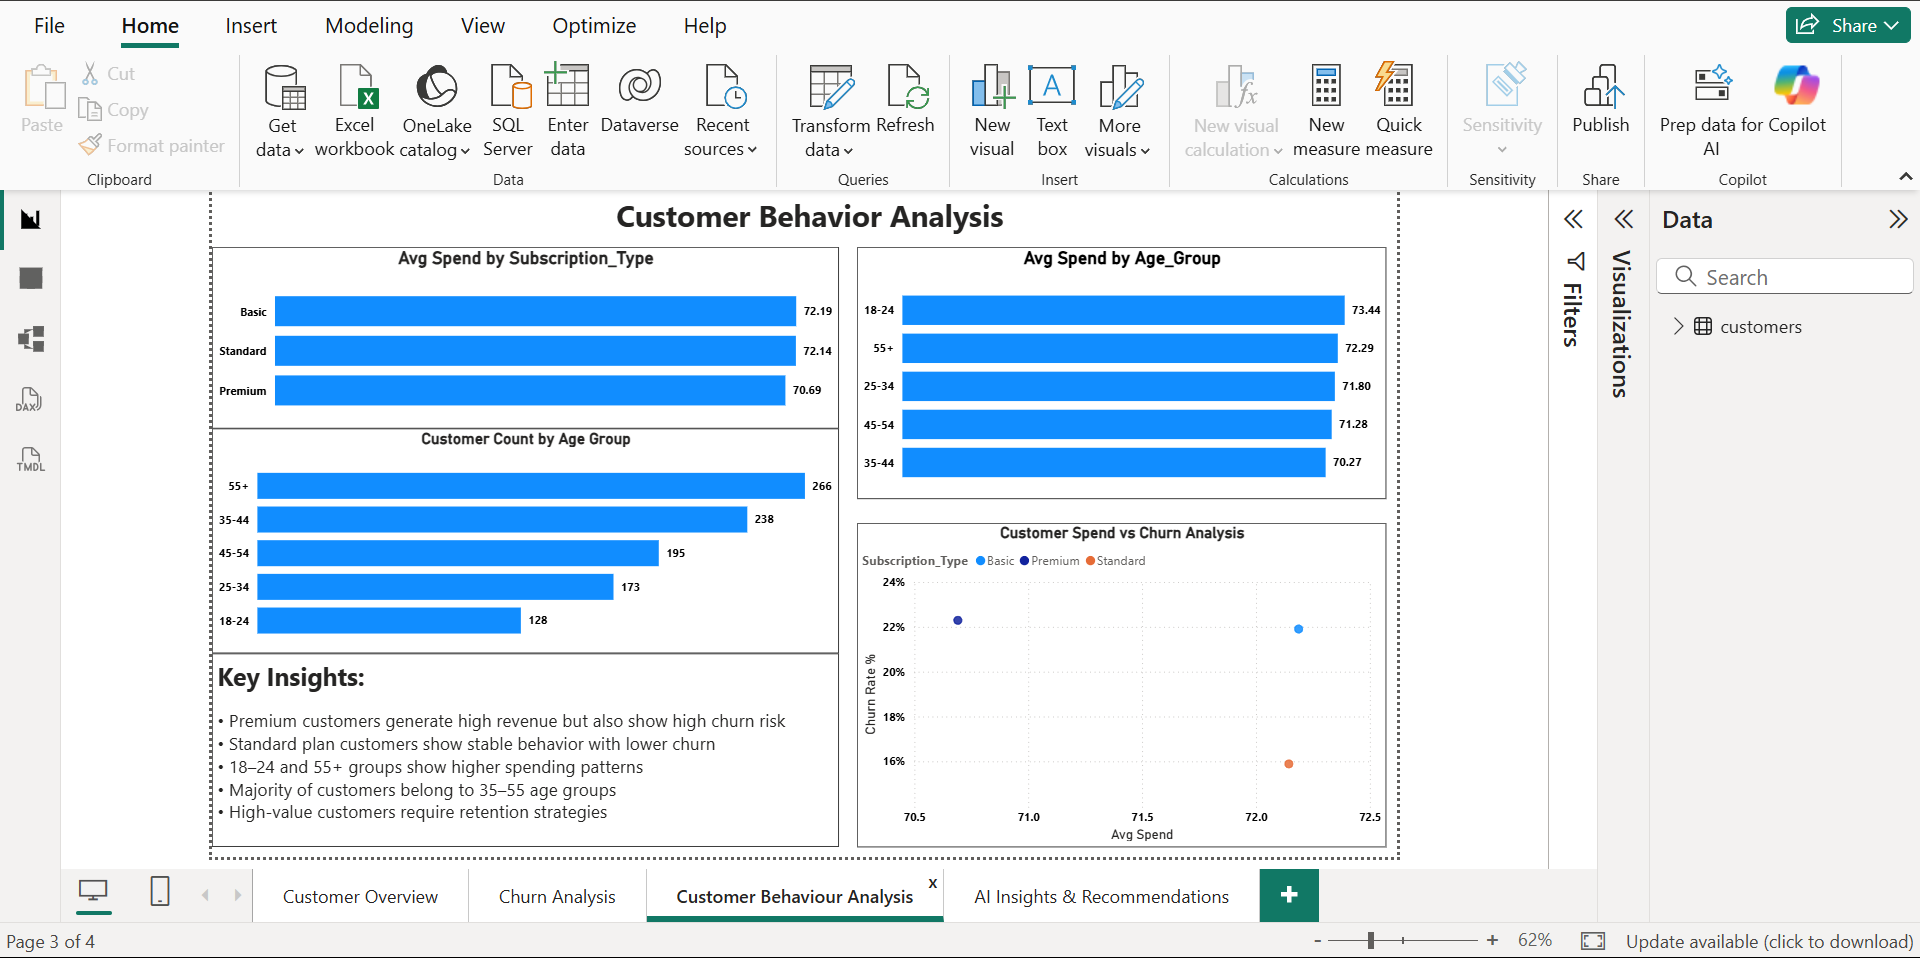

Layout of this report page (visuals, bound fields, positions):
{"tool":"powerbi","page":{"name":"Customer Behaviour Analysis","canvas":[1280,720],"ordinal":2},"visuals":[{"type":"textbox","box":[9.7,0,1271.1,61.5],"z":0},{"type":"clusteredBarChart","fields":{"Category":["customers.Subscription_Type"],"Y":["customers.Avg Spend"]},"box":[0,61.5,676.8,195.9],"z":1000},{"type":"clusteredBarChart","fields":{"Category":["customers.Age_Group"],"Y":["customers.Avg Spend"]},"box":[696.3,61.5,571.6,272],"z":2000},{"type":"clusteredBarChart","title":"Customer Count by Age Group","fields":{"Category":["customers.Age_Group"],"Y":["CountNonNull(customers.Customer_ID)"]},"box":[0,257.5,676.8,242.9],"z":3000},{"type":"scatterChart","title":"Customer Spend vs Churn Analysis","fields":{"X":["customers.Avg Spend"],"Y":["customers.Churn Rate %"],"Series":["customers.Subscription_Type"]},"box":[696.3,359.5,571.6,349.8],"z":4000},{"type":"textbox","box":[0,500.3,676.8,208.9],"z":5000}]}

Visuals, with their boxes on the page's 1280x720 design canvas (x1, y1, x2, y2). These are canvas units, not pixel positions in the 1920x958 screenshot, which may show the page scaled, cropped or inside an application window:
textbox: rect(10, 0, 1281, 62)
clusteredBarChart - customers.Subscription_Type x customers.Avg Spend: rect(0, 62, 677, 257)
clusteredBarChart - customers.Age_Group x customers.Avg Spend: rect(696, 62, 1268, 334)
"Customer Count by Age Group" clusteredBarChart: rect(0, 258, 677, 500)
"Customer Spend vs Churn Analysis" scatterChart: rect(696, 360, 1268, 709)
textbox: rect(0, 500, 677, 709)
